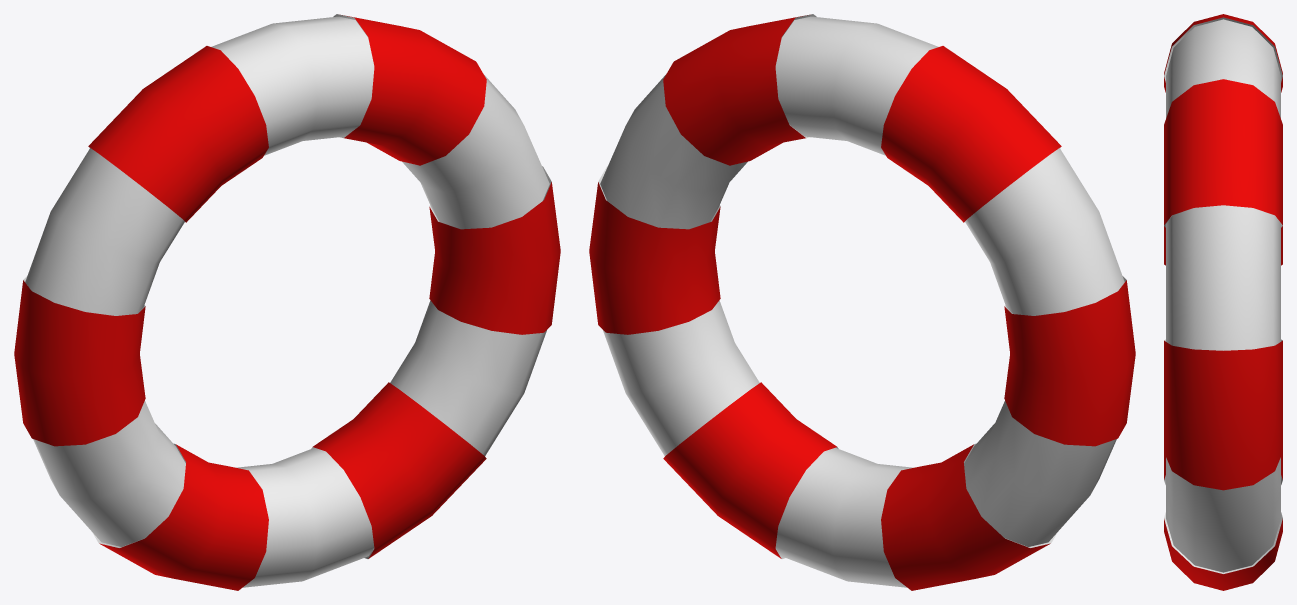
Rendered from life_buoy.fbx.
The picture shows the model from 3 angles, left to right: view 1: azimuth 30°, elevation 25°; view 2: azimuth 150°, elevation 25°; view 3: azimuth 270°, elevation 25°; orthographic projection. The views are drawn at different scales.
Parts seen in each view (by area): view 1: Lifebuoy; view 2: Lifebuoy; view 3: Lifebuoy.
Part boxes in pixels (box(x1,y1,x2,y2)): Lifebuoy: box(14, 14, 560, 590); Lifebuoy: box(589, 14, 1135, 590); Lifebuoy: box(1164, 14, 1282, 590).
Size of the model in its own units: 374 by 371 by 76.75.
